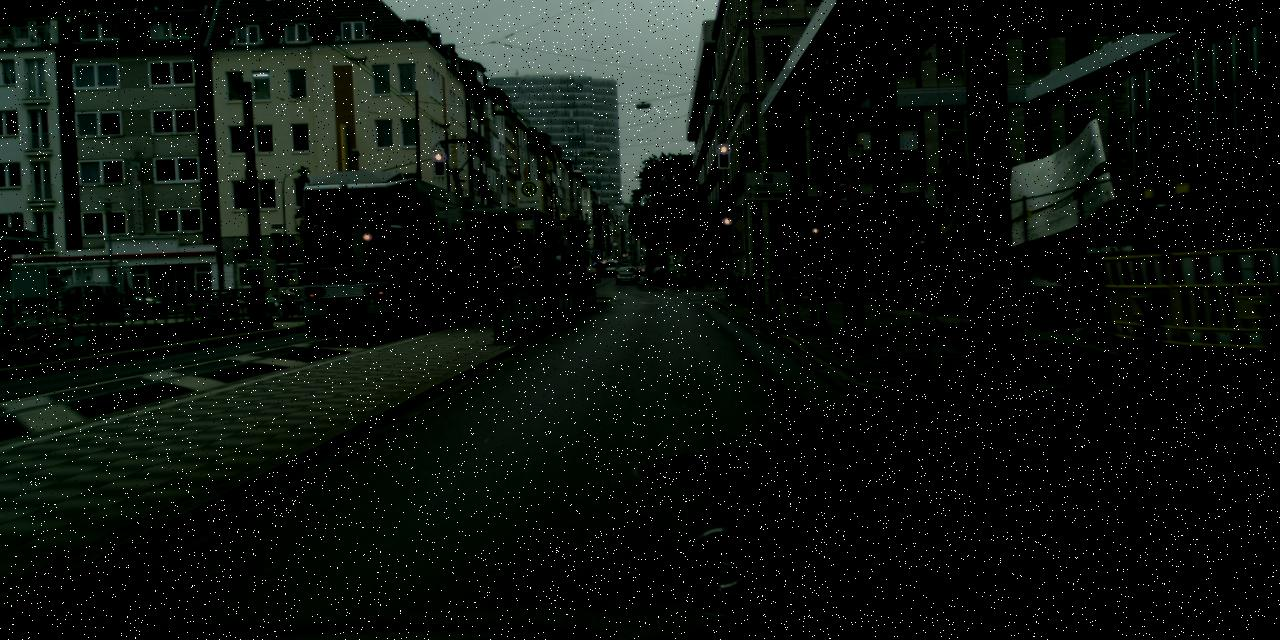ped: (514, 244, 545, 319), (799, 238, 824, 298), (541, 250, 565, 310), (776, 245, 798, 299), (691, 256, 703, 287), (694, 259, 706, 288)
